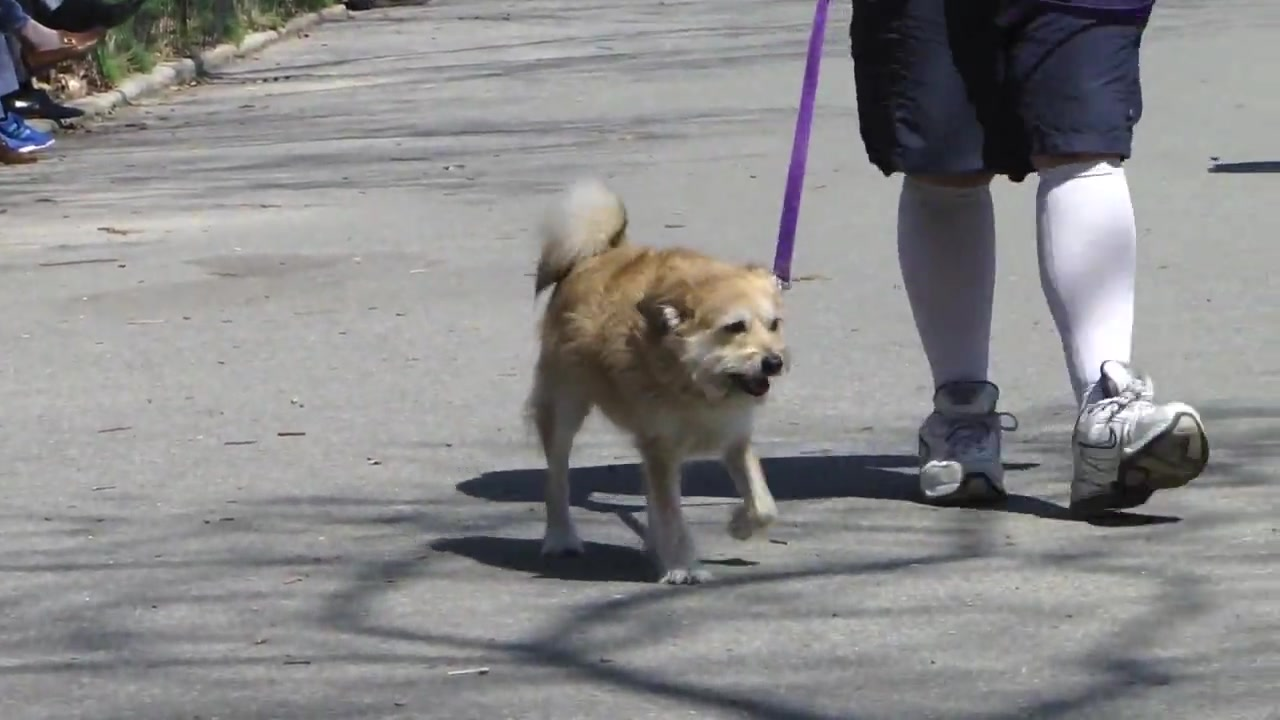dog: (527, 177, 792, 591)
